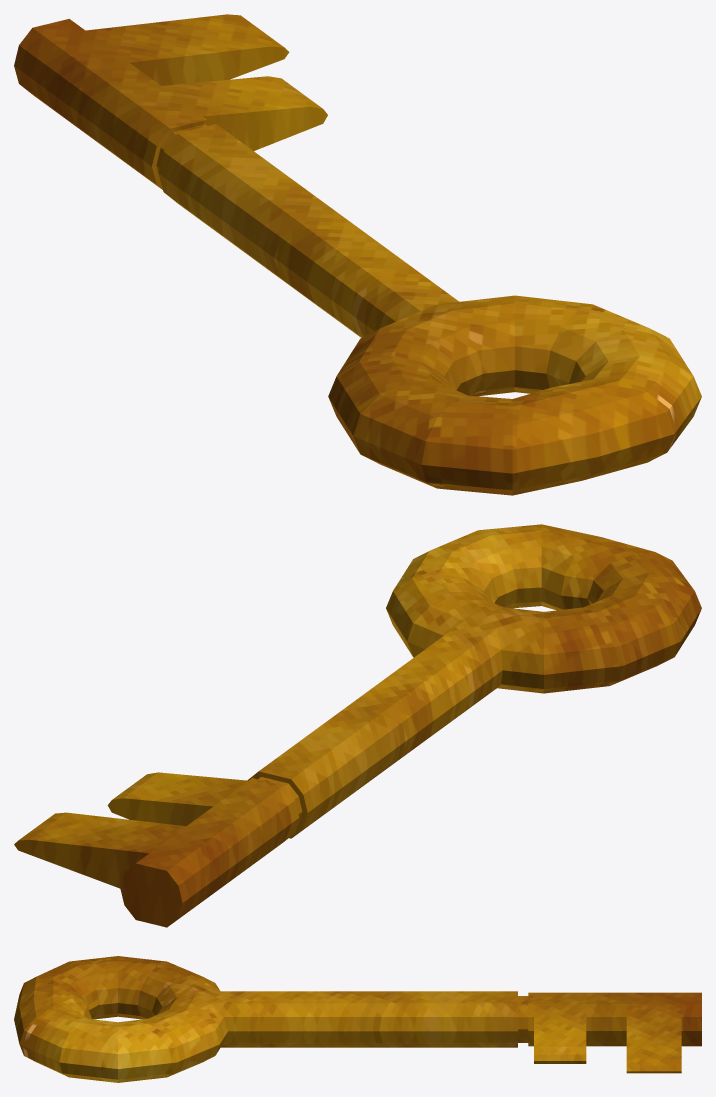
Rendered from Llave arreglada.fbx.
3 views of the same model, one above another, from view 1: azimuth 30°, elevation 25°; view 2: azimuth 150°, elevation 25°; view 3: azimuth 270°, elevation 25° (orthographic). The views are drawn at different scales.
Visible parts, largest first — view 1: Llave; view 2: Llave; view 3: Llave.
Part boxes in pixels (box(x1,y1,x2,y2)): Llave: box(14, 14, 701, 495); Llave: box(14, 524, 701, 927); Llave: box(14, 956, 701, 1082).
Size of the model in its own units: 28 by 6.37 by 77.91.
